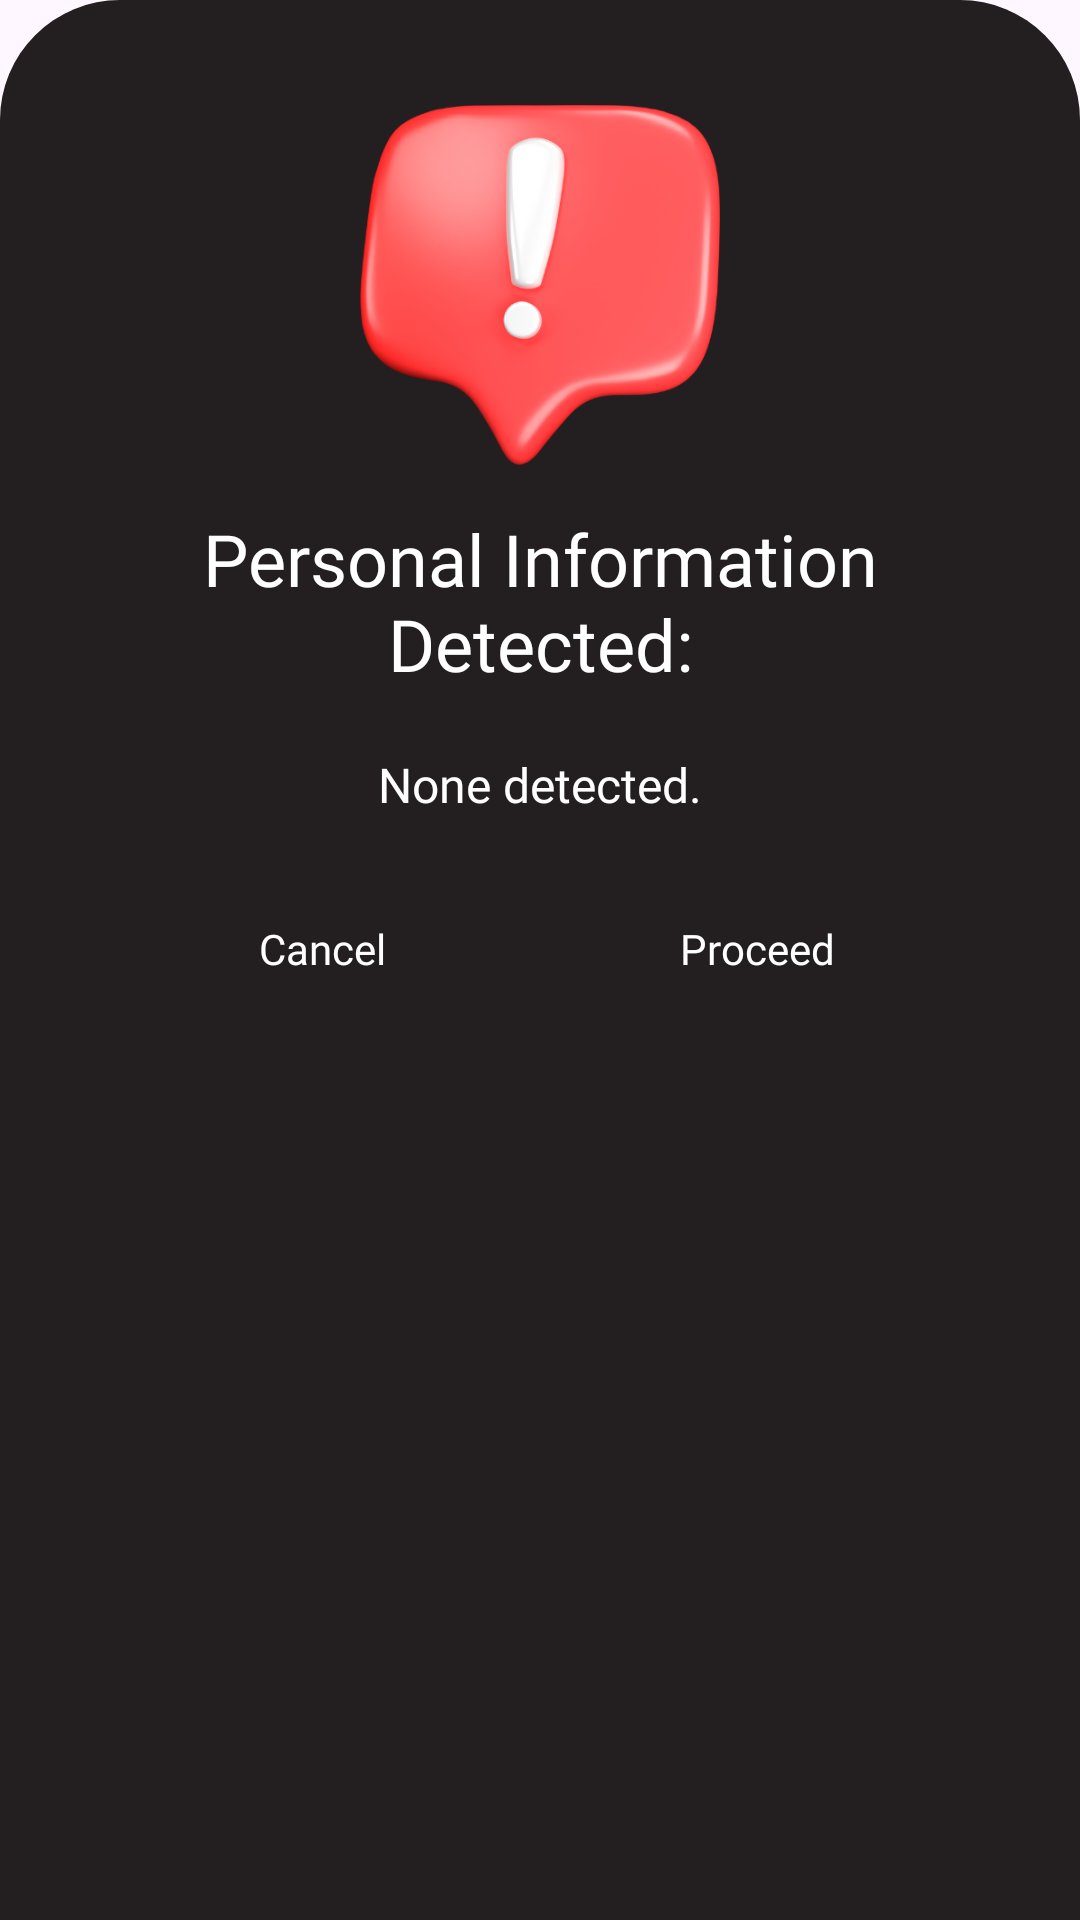

Icon bounding boxes for this 1080 x 1920 phone screenshot, format detection(x1, y1, x2, y2):
onboarding alerts: detection(360, 105, 720, 465)
